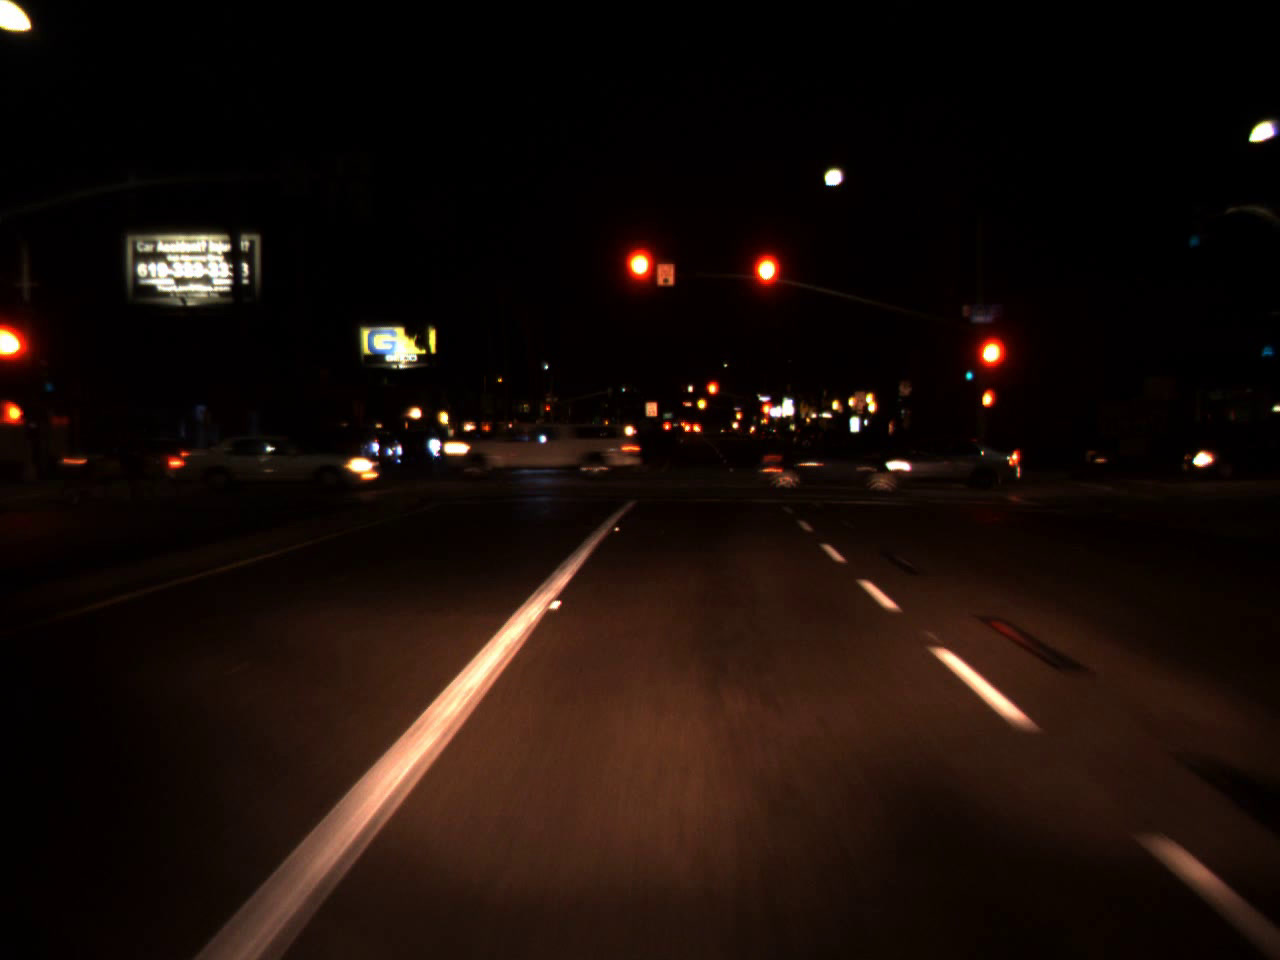stop: (620, 243, 657, 318), (749, 249, 785, 324), (974, 332, 1010, 404), (0, 326, 24, 374), (759, 398, 774, 435), (705, 379, 720, 411), (545, 405, 551, 415)
warning: (693, 391, 706, 413), (734, 406, 743, 423)
